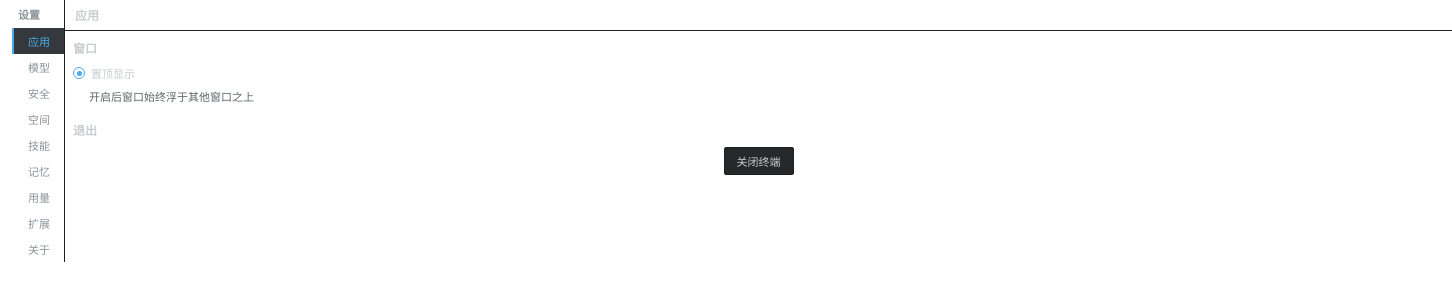
Test: SettingsPanel · 空间页（路径只读 + 目录选择 + 目录结构树） › 未设置时显示解析后的默认路径 + 「默认」标记（不再是「未设置」）
Click the tab "空间": click(38, 119) [12, 106, 64, 132]
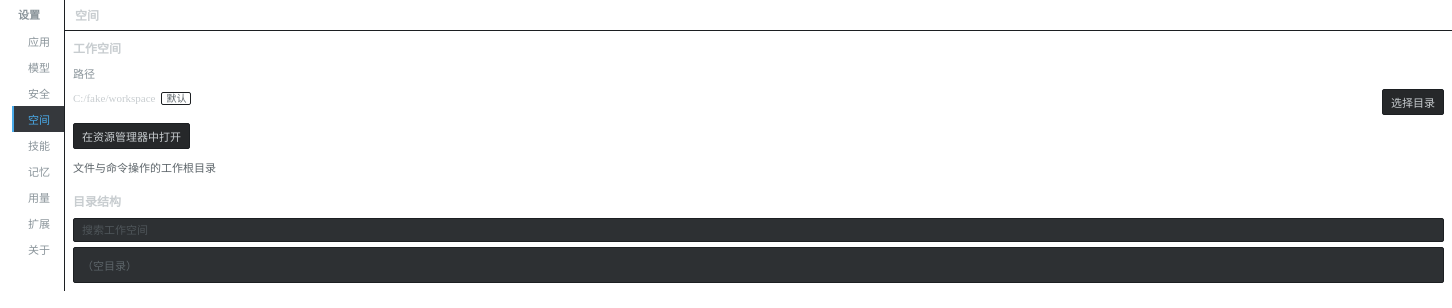
Result: the text "C:/fake/workspace" is shown at [73, 92, 156, 104]
Result: the text "默认" is shown at [162, 92, 192, 105]
